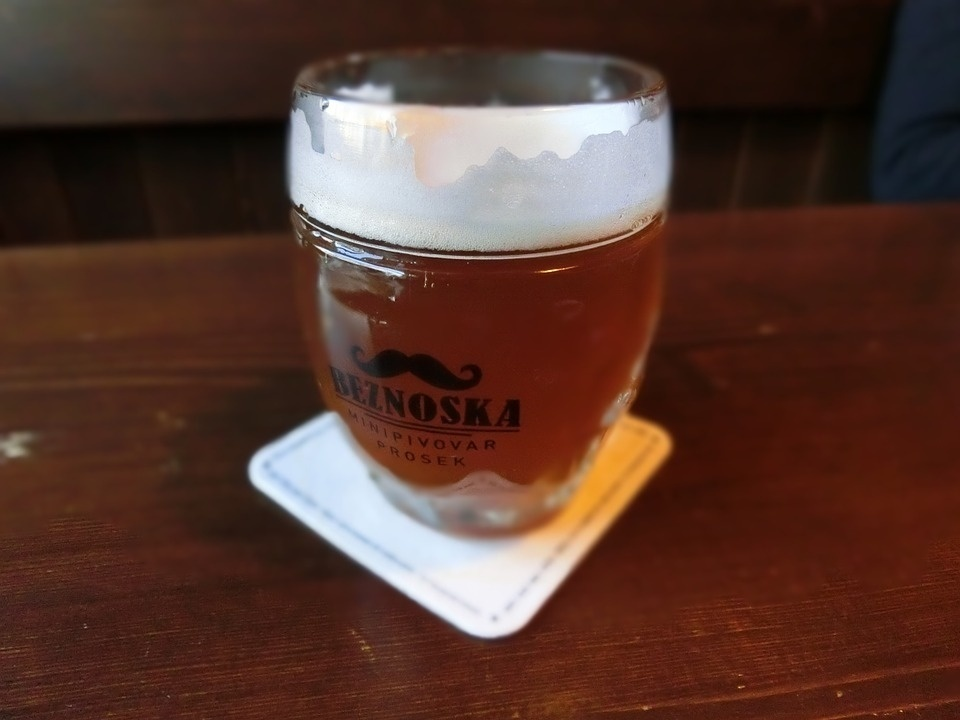whiskey: (276, 68, 670, 517)
